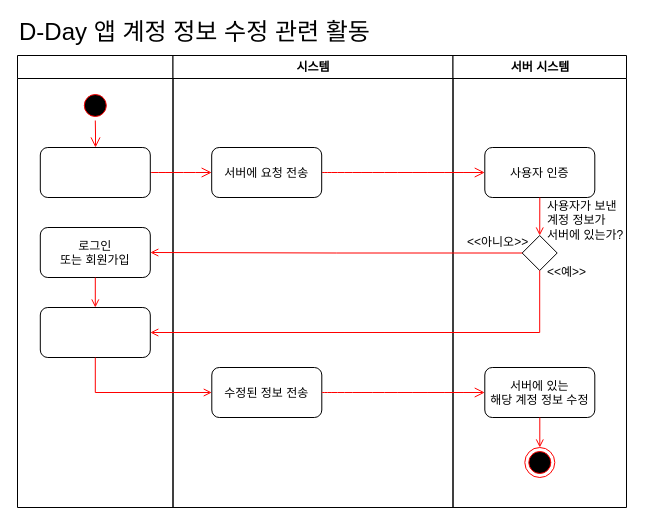
Some shapes in this 652 by 525 pixel diagram are drawn without their labels. The box of each missing label's shape, as (x1, y1, x2, y2) in pixels:
계정 정보 수정: (39, 306, 150, 358)
계정 정보 수정 요청: (39, 146, 150, 198)
사용자: (16, 54, 173, 508)
